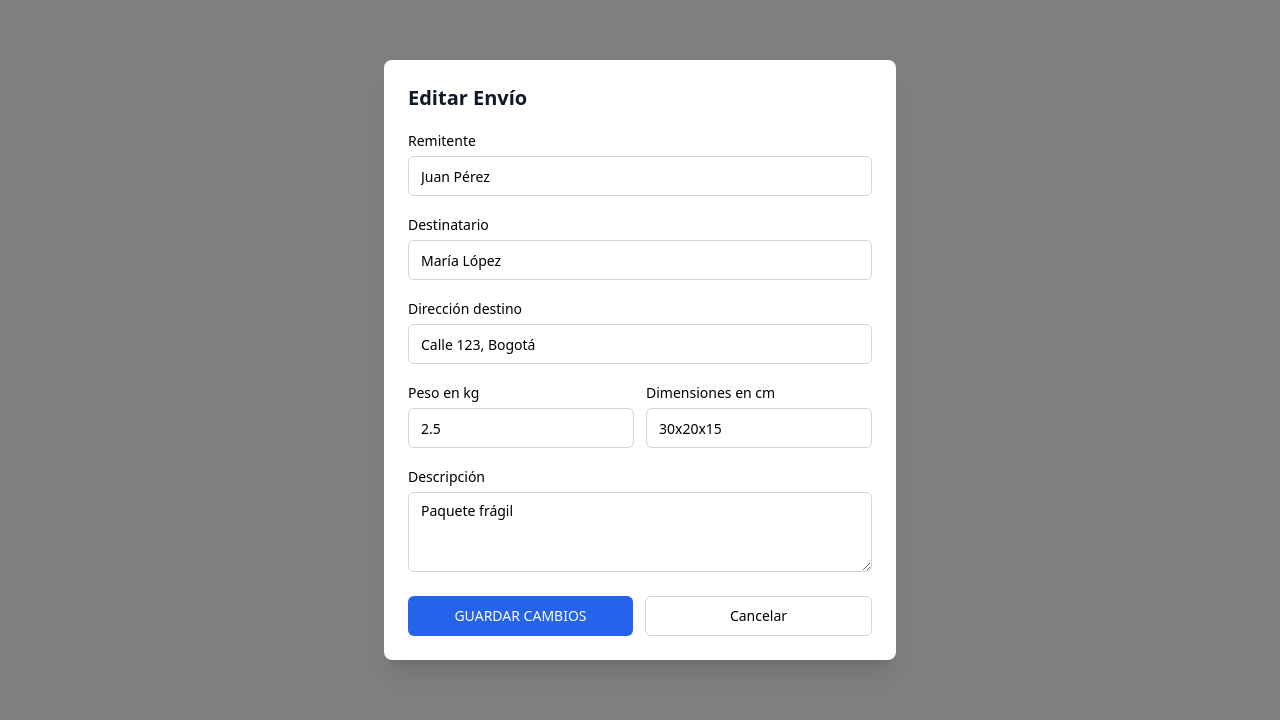
it: EditarEnvioModal component › debe mostrar Toast de error cuando la API devuelve un error
Expected: the field labelled "Remitente" is shown, [408,156,872,196]
Click the button "GUARDAR CAMBIOS". click: (520, 616)
box: [408,596,633,636]
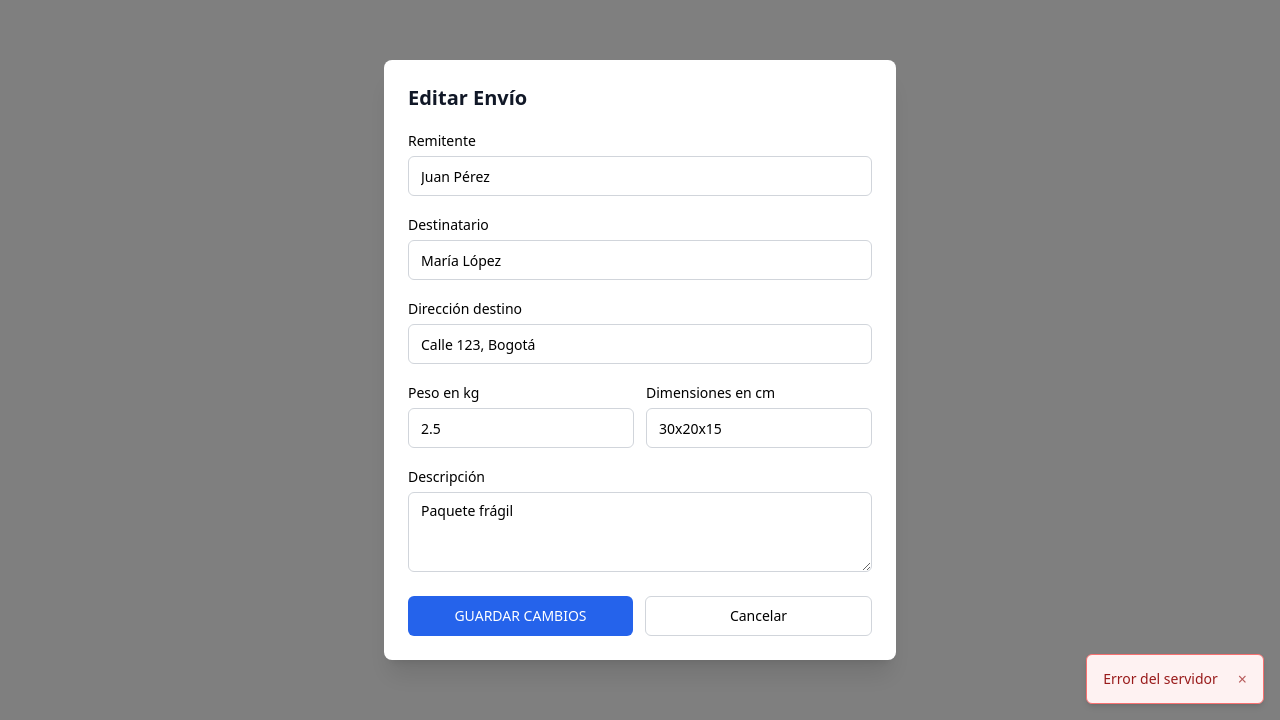
Expected: the message shows "Error del servidor", [1103,669,1218,688]
